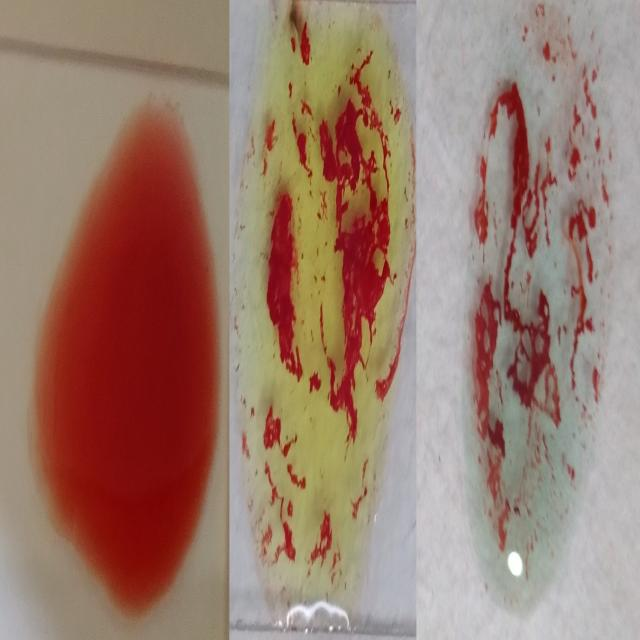A: (460, 4, 603, 612)
B: (238, 5, 410, 621)
